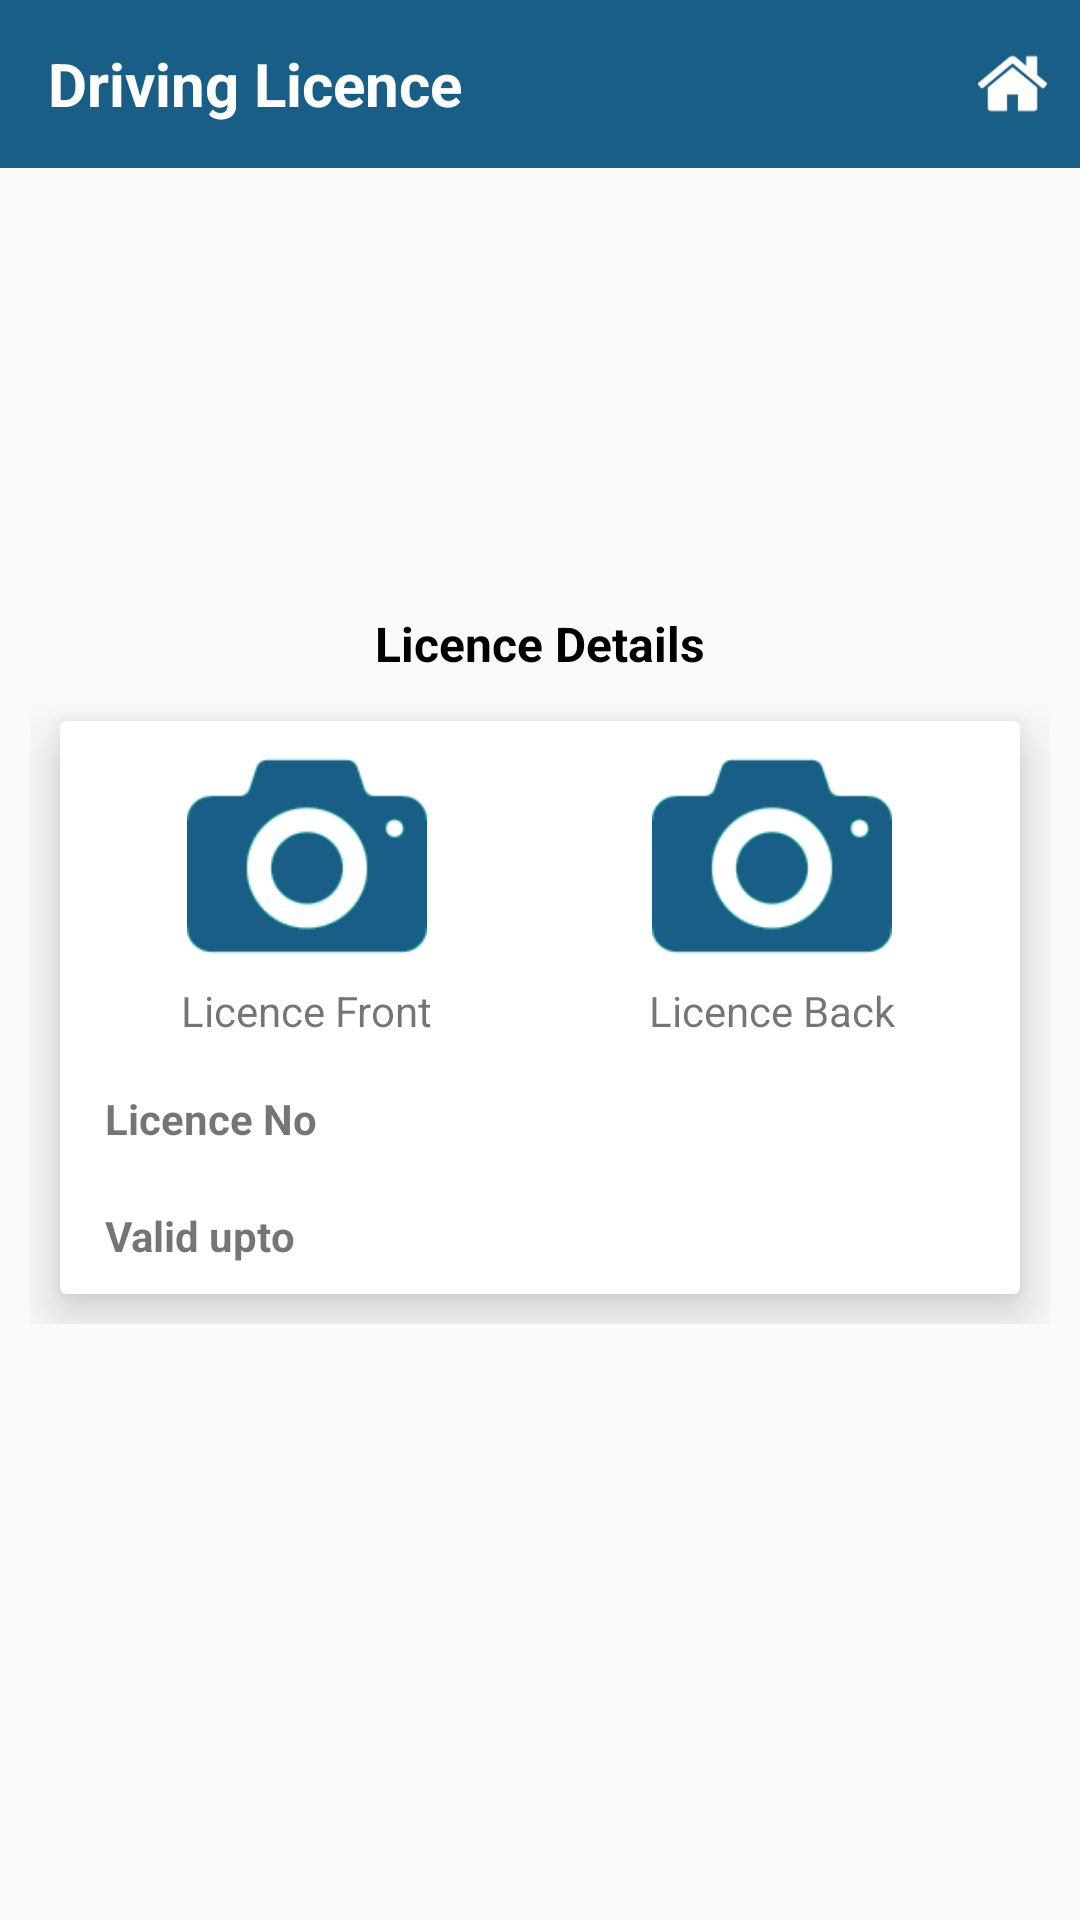

Named icons in this screenshot (1080px x 1920px) and their centers, point (x, y):
camera: point (307, 856), point (772, 856)
home: point (1012, 83)
